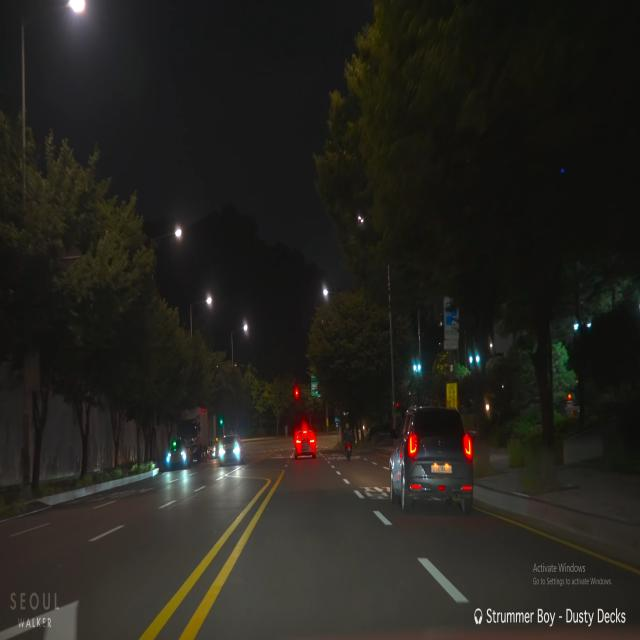headlights: (162, 448, 196, 469), (216, 442, 247, 462)
